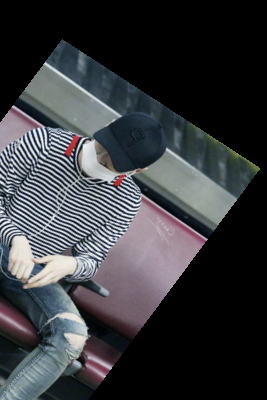mask_weared_incorrect: (79, 96, 176, 195)
